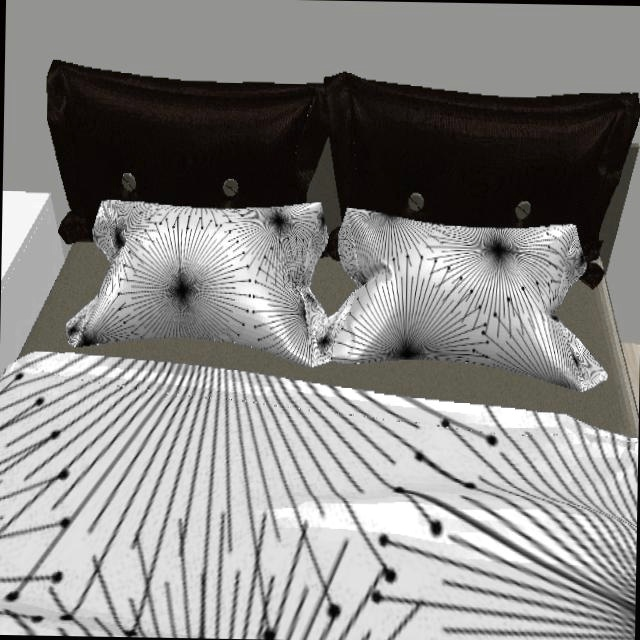bed: (0, 61, 640, 640)
pillow: (65, 202, 612, 396)
